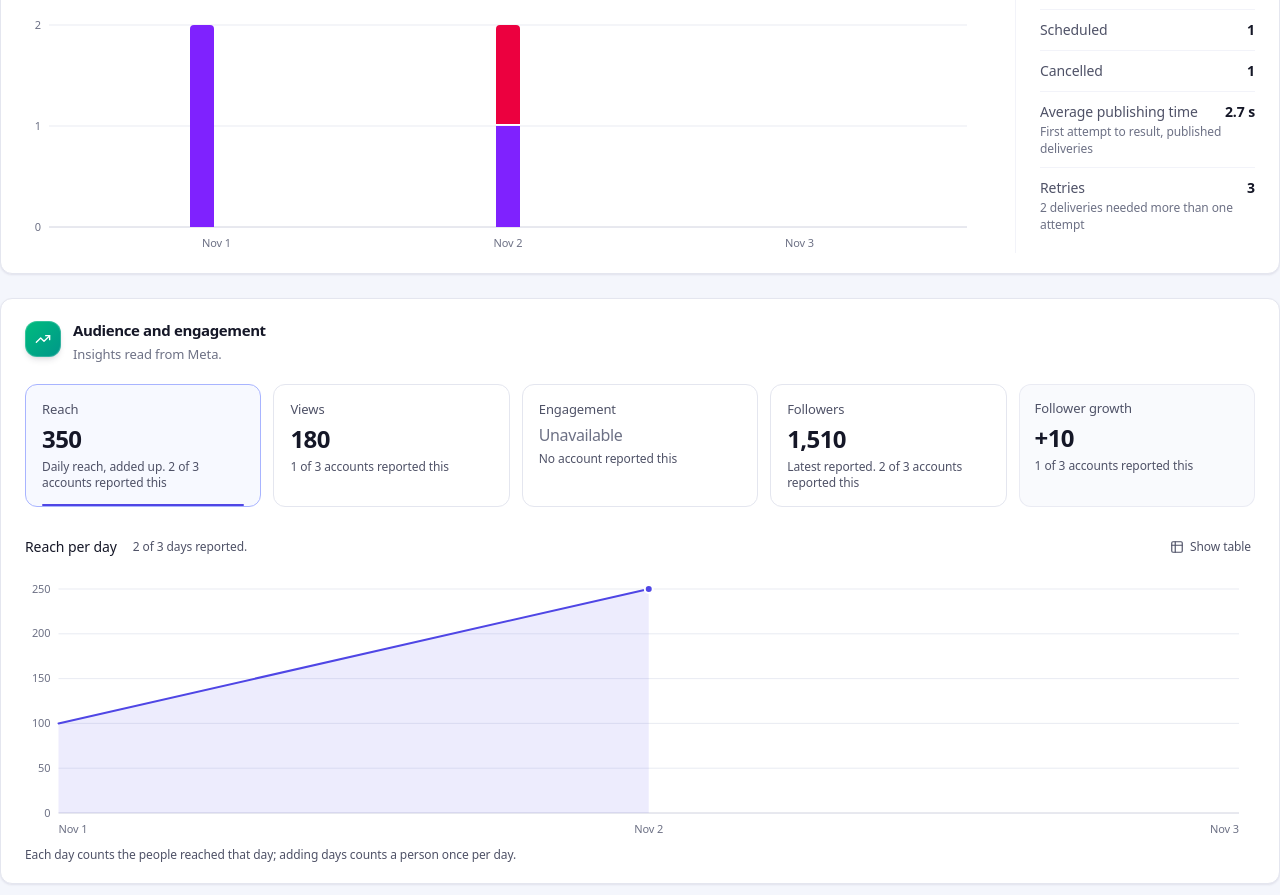
Test: charts › draws the chosen metric with gaps, and offers the numbers as a table
(page scrolled)
Expected: the picture named "Reach: 2 of 3 days reported" is shown, [25,574,1255,838]
Step 1. Click the 2nd button named "Views" → (392, 445), box [274,384,509,506]
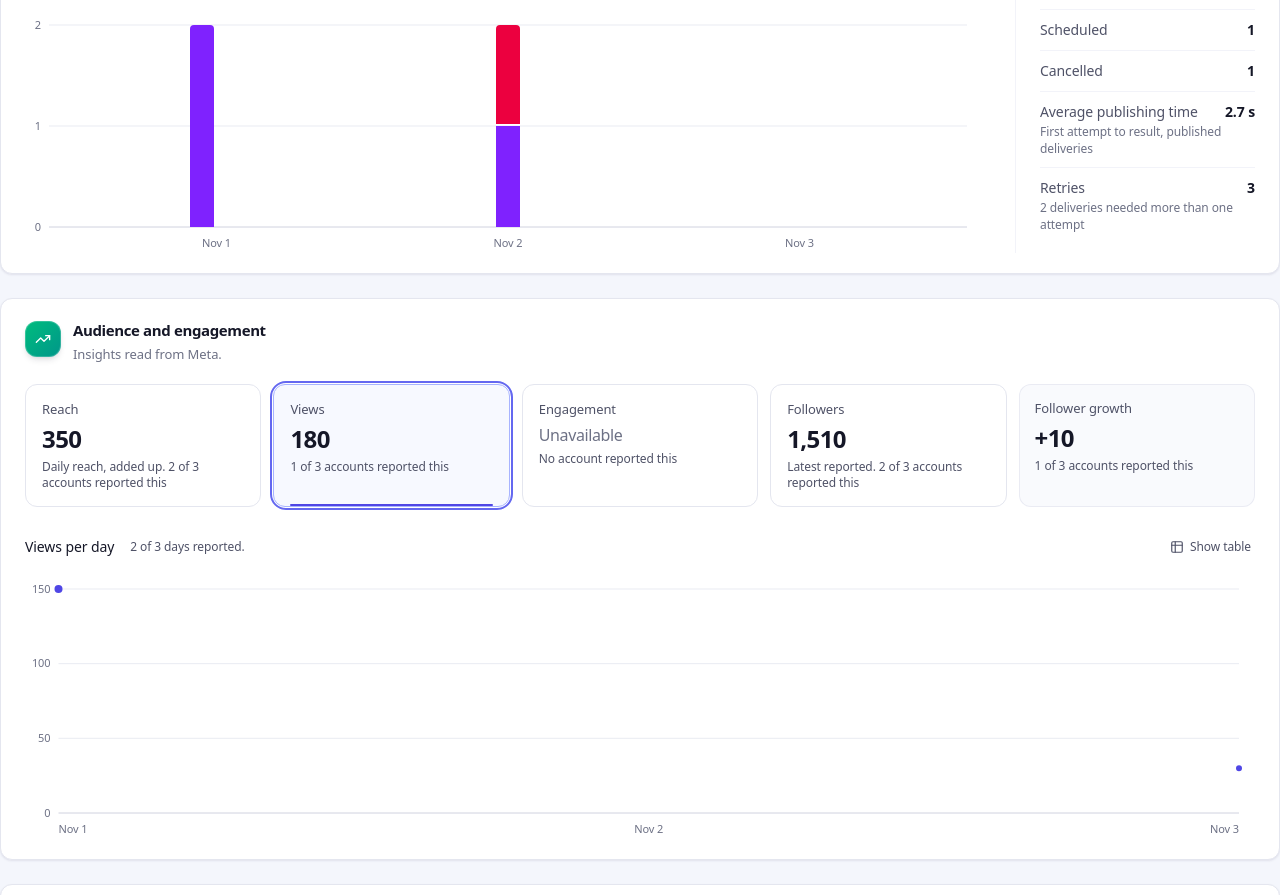
Expected: the picture named "Views: 2 of 3 days reported" is shown, [25,574,1255,838]
Step 2. Click the button "Show table" in the row of "2 of 3 days reported." → (1211, 546), box [1158,530,1263,562]
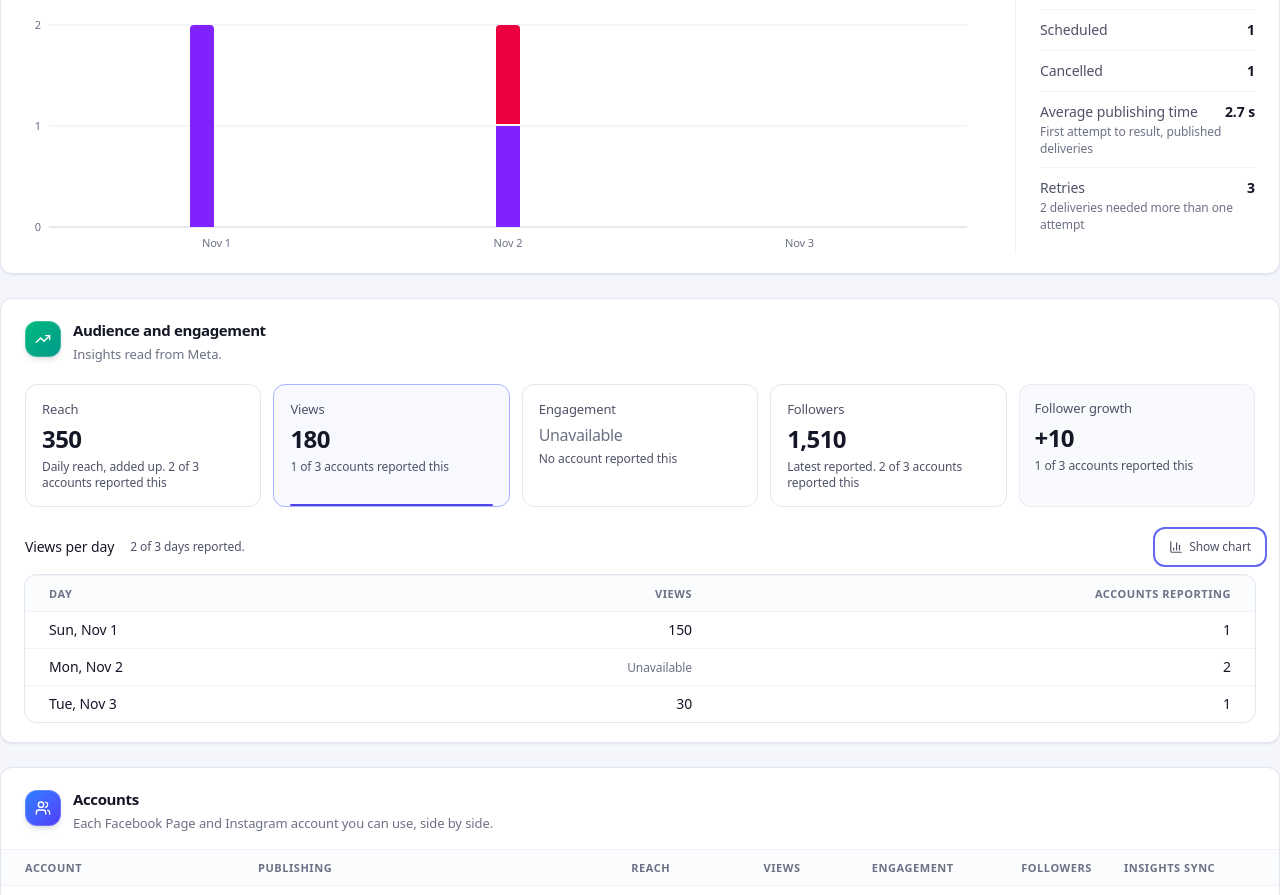
Expected: the text "Unavailable" is shown once, [627,659,692,676]
Note: Engagement was never reported: nothing to draw, and it says so.
Step 3. Click the button named "Engagement" next to "No account reported this" → (640, 445), box [523,384,757,506]
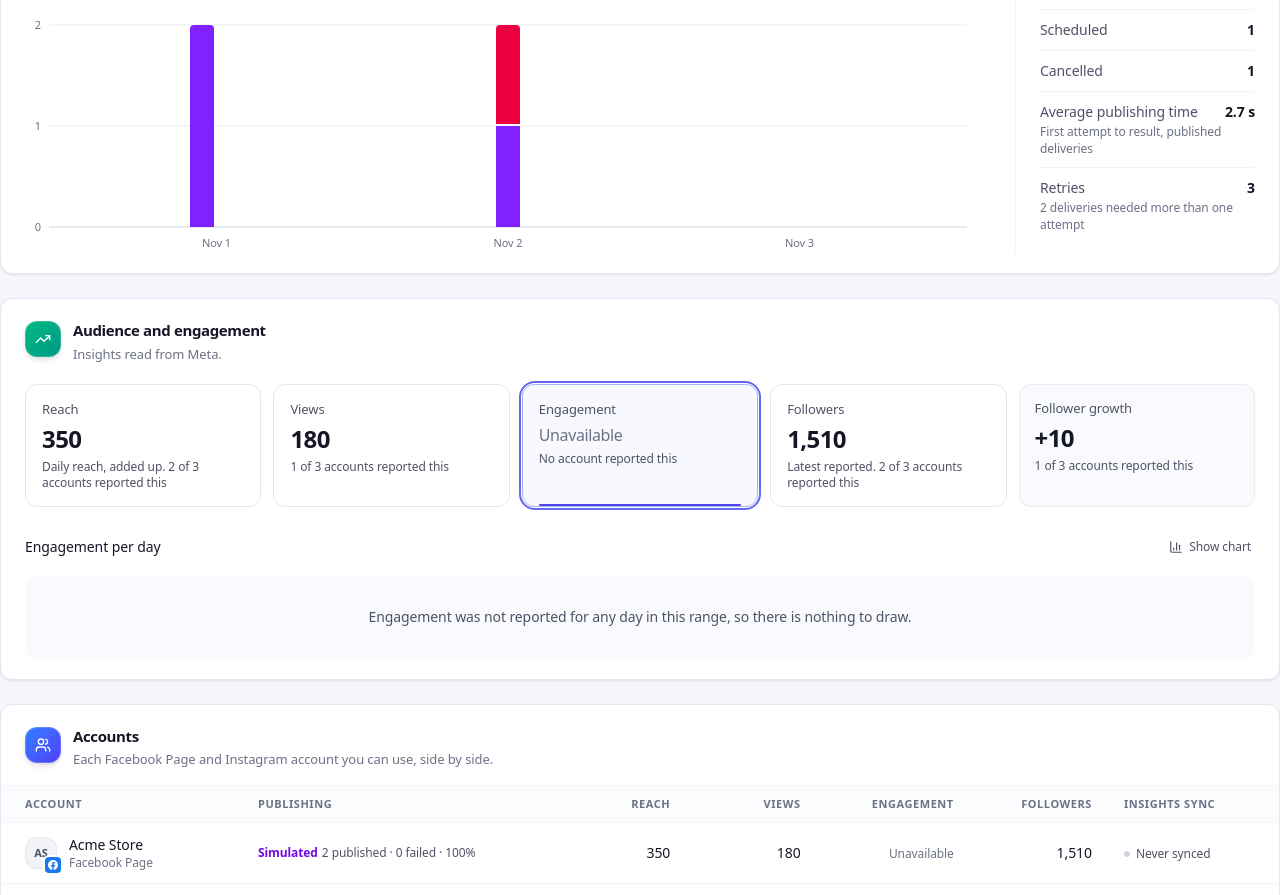
Expected: the text "was not reported for any day" is shown, [452,606,912,626]
